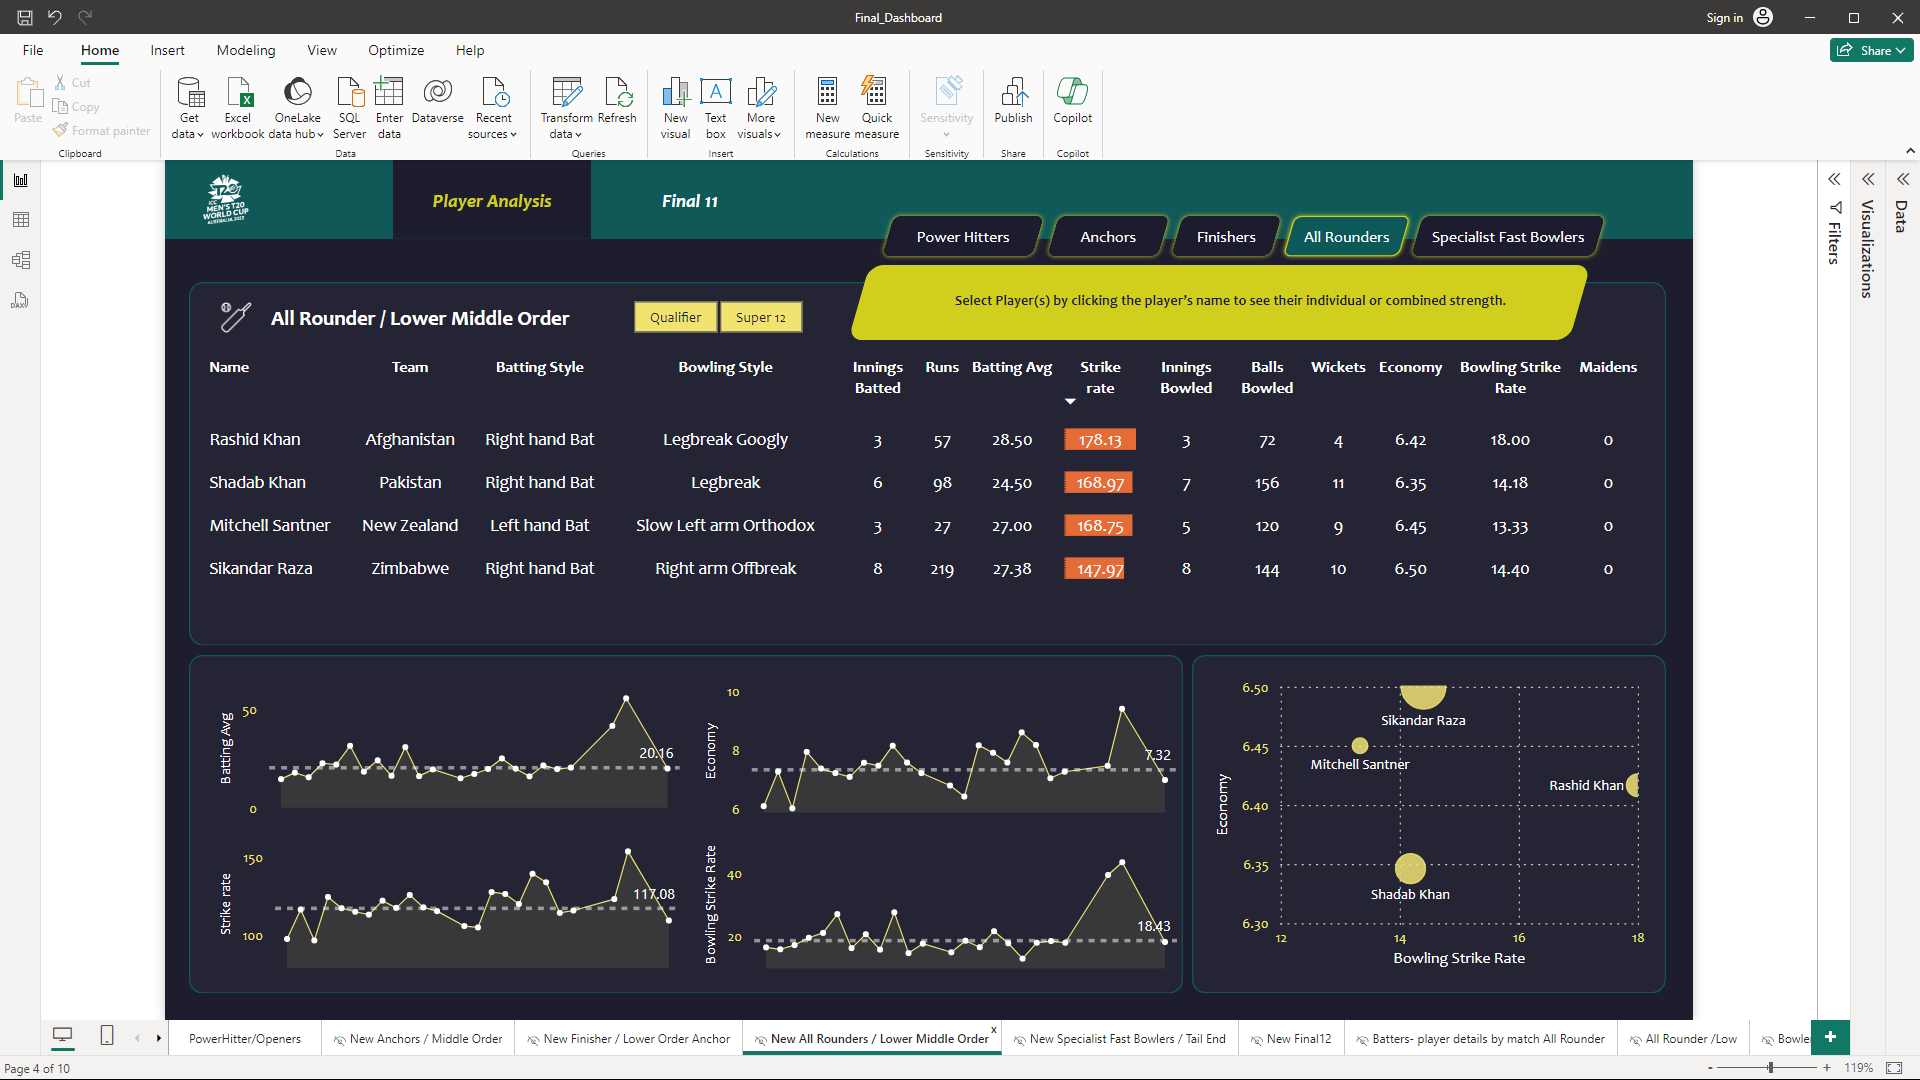

What the dashboard file says about the page in this screenshot:
{"tool":"powerbi","page":{"name":"New All Rounders / Lower Middle Order","canvas":[1280,720],"ordinal":3},"visuals":[{"type":"shape","box":[0,66,1280,654],"z":0},{"type":"card","fields":{"Values":["Key_Measures.Strike rate"]},"box":[867,89,93,60],"z":0,"group":"g2"},{"type":"shape","box":[83.7,116.3,260,31.2],"z":0,"group":"g1"},{"type":"card","fields":{"Values":["Key_Measures.Bat Avg"]},"box":[768,89,92,60],"z":1000,"group":"g2"},{"type":"image","box":[37.5,113.8,44,36],"z":1000,"group":"g1"},{"type":"shape","box":[20,414.4,832.2,283.3],"z":1000},{"type":"actionButton","box":[734,42.6,111,42],"z":2000},{"type":"card","fields":{"Values":["Key_Measures.Bowling Strike Rate"]},"box":[1073,89,100,60],"z":2000,"group":"g2"},{"type":"actionButton","box":[596,42.6,144,42],"z":3000},{"type":"card","fields":{"Values":["Key_Measures.Economy"]},"box":[966,89,101,60],"z":3000,"group":"g2"},{"type":"actionButton","box":[838,42.6,101,42],"z":4000},{"type":"actionButton","box":[932,42.6,115,42],"z":5000},{"type":"actionButton","box":[1039,42.6,171,42],"z":6000},{"type":"image","box":[26.5,3.9,48,58.8],"z":7000},{"type":"shape","box":[20,102.2,1236.7,304.4],"z":9000},{"type":"group","id":"g1","title":"Group 2","box":[37.5,113.8,306.2,35],"z":10000},{"type":"slicer","fields":{"Values":["dim_match_summary.stage"]},"box":[366.7,111.1,191.1,38.9],"z":11000},{"type":"tableEx","fields":{"Values":["dim_player.name","Min(dim_player.team)","Min(dim_player.Batting Style)","Min(dim_player.Bowling Style)","Key_Measures.Total Innings Batted","Key_Measures.Total Runs","Key_Measures.Bat Avg","Key_Measures.Strike rate","Key_Measures.Total Innings Bowled","Key_Measures.Balls Bowled","Key_Measures.wickets","Key_Measures.Economy"]},"box":[26,151,1231,255],"z":12000},{"type":"shape","box":[572,88,622,63],"z":13000},{"type":"shape","box":[591,103,173,34],"z":14000},{"type":"group","id":"g2","title":"Combined Perfoamce Metrices","box":[768,89,405,60],"z":15000},{"type":"scatterChart","fields":{"Category":["dim_player.name"],"X":["Key_Measures.Bowling Strike Rate"],"Y":["Key_Measures.Economy"],"Size":["Key_Measures.Total Runs"]},"box":[874.4,427,370,254],"z":16000},{"type":"actionButton","title":"Button Player Ana selected","box":[191,0,166,66],"z":17000},{"type":"actionButton","title":"Button Player Ana selected","box":[357,0,166,66],"z":18000},{"type":"shape","box":[612,100,560,36],"z":19000},{"type":"shape","box":[859.5,414.3,396.7,283.1],"z":20000},{"type":"areaChart","fields":{"Category":["dim_match_summary.Match_Date.Variation.Date Hierarchy.Day"],"Y":["Key_Measures.Economy"]},"box":[446,430,406,126],"z":21000},{"type":"areaChart","fields":{"Category":["dim_match_summary.Match_Date.Variation.Date Hierarchy.Day"],"Y":["Key_Measures.Bowling Strike Rate"]},"box":[446,556,406,126],"z":22000},{"type":"areaChart","fields":{"Category":["dim_match_summary.Match_Date.Variation.Date Hierarchy.Day"],"Y":["Key_Measures.Bat Avg"]},"box":[40,428.9,395.6,126.7],"z":23000},{"type":"areaChart","fields":{"Category":["dim_match_summary.Match_Date.Variation.Date Hierarchy.Day"],"Y":["Key_Measures.Strike rate"]},"box":[40,555.6,396.7,125.6],"z":24000}]}

Visuals, with their boxes on the page's 1280x720 design canvas (x1, y1, x2, y2). These are canvas units, not pixel positions in the 1920x1080 screenshot, which may show the page scaled, cropped or inside an application window:
shape: Rect(0, 66, 1280, 720)
card - Key_Measures.Strike rate: Rect(867, 89, 960, 149)
shape: Rect(84, 116, 344, 148)
card - Key_Measures.Bat Avg: Rect(768, 89, 860, 149)
image: Rect(38, 114, 82, 150)
shape: Rect(20, 414, 852, 698)
actionButton: Rect(734, 43, 845, 85)
card - Key_Measures.Bowling Strike Rate: Rect(1073, 89, 1173, 149)
actionButton: Rect(596, 43, 740, 85)
card - Key_Measures.Economy: Rect(966, 89, 1067, 149)
actionButton: Rect(838, 43, 939, 85)
actionButton: Rect(932, 43, 1047, 85)
actionButton: Rect(1039, 43, 1210, 85)
image: Rect(26, 4, 74, 63)
shape: Rect(20, 102, 1257, 407)
"Group 2" group: Rect(38, 114, 344, 149)
slicer - dim_match_summary.stage: Rect(367, 111, 558, 150)
tableEx - dim_player.name x Min(dim_player.team): Rect(26, 151, 1257, 406)
shape: Rect(572, 88, 1194, 151)
shape: Rect(591, 103, 764, 137)
"Combined Perfoamce Metrices" group: Rect(768, 89, 1173, 149)
scatterChart - dim_player.name x Key_Measures.Bowling Strike Rate: Rect(874, 427, 1244, 681)
"Button Player Ana selected" actionButton: Rect(191, 0, 357, 66)
"Button Player Ana selected" actionButton: Rect(357, 0, 523, 66)
shape: Rect(612, 100, 1172, 136)
shape: Rect(860, 414, 1256, 697)
areaChart - dim_match_summary.Match_Date.Variation.Date Hierarchy.Day x Key_Measures.Economy: Rect(446, 430, 852, 556)
areaChart - dim_match_summary.Match_Date.Variation.Date Hierarchy.Day x Key_Measures.Bowling Strike Rate: Rect(446, 556, 852, 682)
areaChart - dim_match_summary.Match_Date.Variation.Date Hierarchy.Day x Key_Measures.Bat Avg: Rect(40, 429, 436, 556)
areaChart - dim_match_summary.Match_Date.Variation.Date Hierarchy.Day x Key_Measures.Strike rate: Rect(40, 556, 437, 681)
